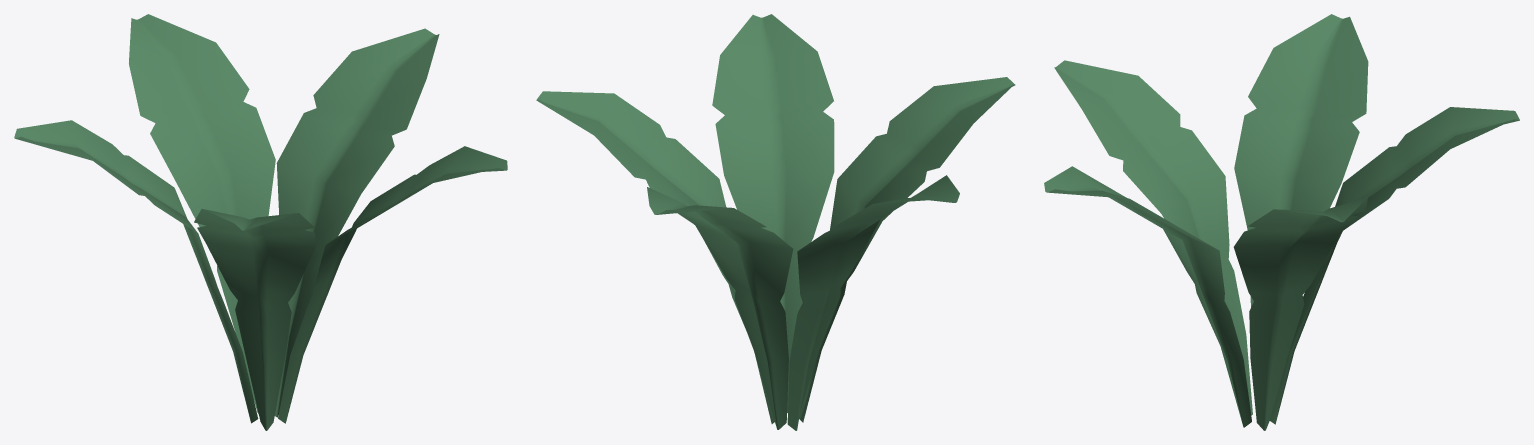
The model's file is FernNarrow.fbx.
3 views of the same model, side by side, from view 1: azimuth 30°, elevation 25°; view 2: azimuth 150°, elevation 25°; view 3: azimuth 270°, elevation 25° (orthographic).
Parts seen in each view (by area): view 1: FernNarrow; view 2: FernNarrow; view 3: FernNarrow.
Boxes of the visible parts, x1,y1,x2,y2 form: FernNarrow: [14, 14, 507, 430]; FernNarrow: [536, 14, 1015, 430]; FernNarrow: [1044, 14, 1519, 430].
Size of the model in its own units: 209 by 148 by 205.
